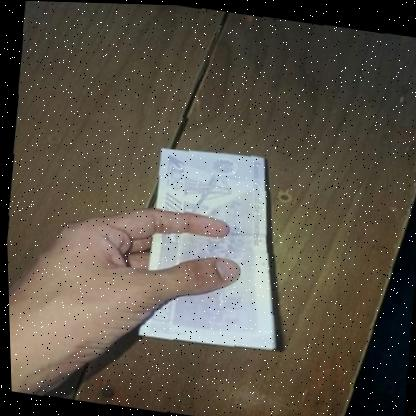two_hundred-back-vef: (130, 138, 298, 355)
